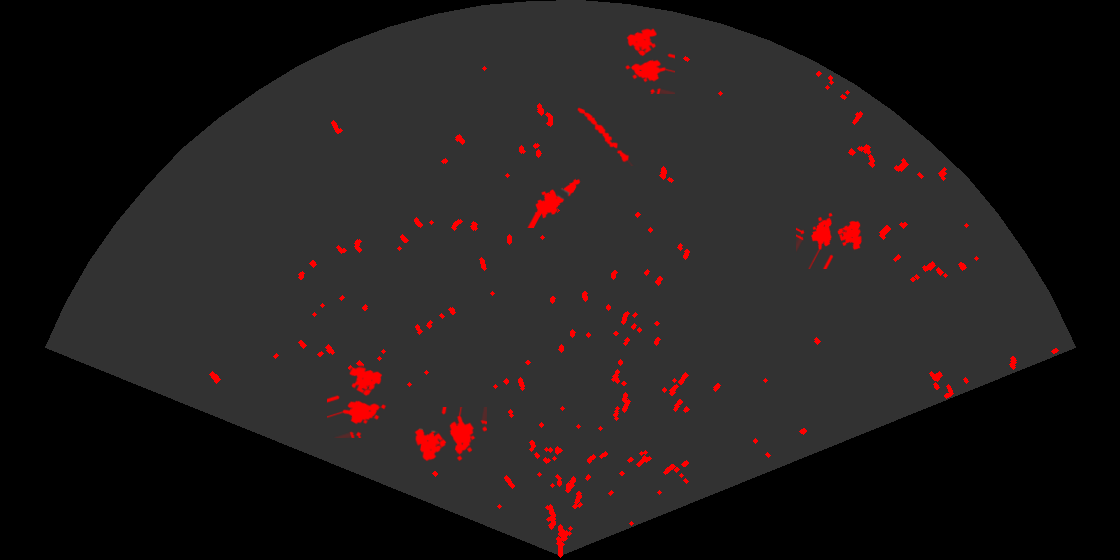cage: (327, 365, 388, 438), (413, 407, 487, 463), (796, 211, 864, 269), (624, 27, 675, 94)
chain: (576, 106, 635, 166)
frogman: (526, 177, 582, 228)
